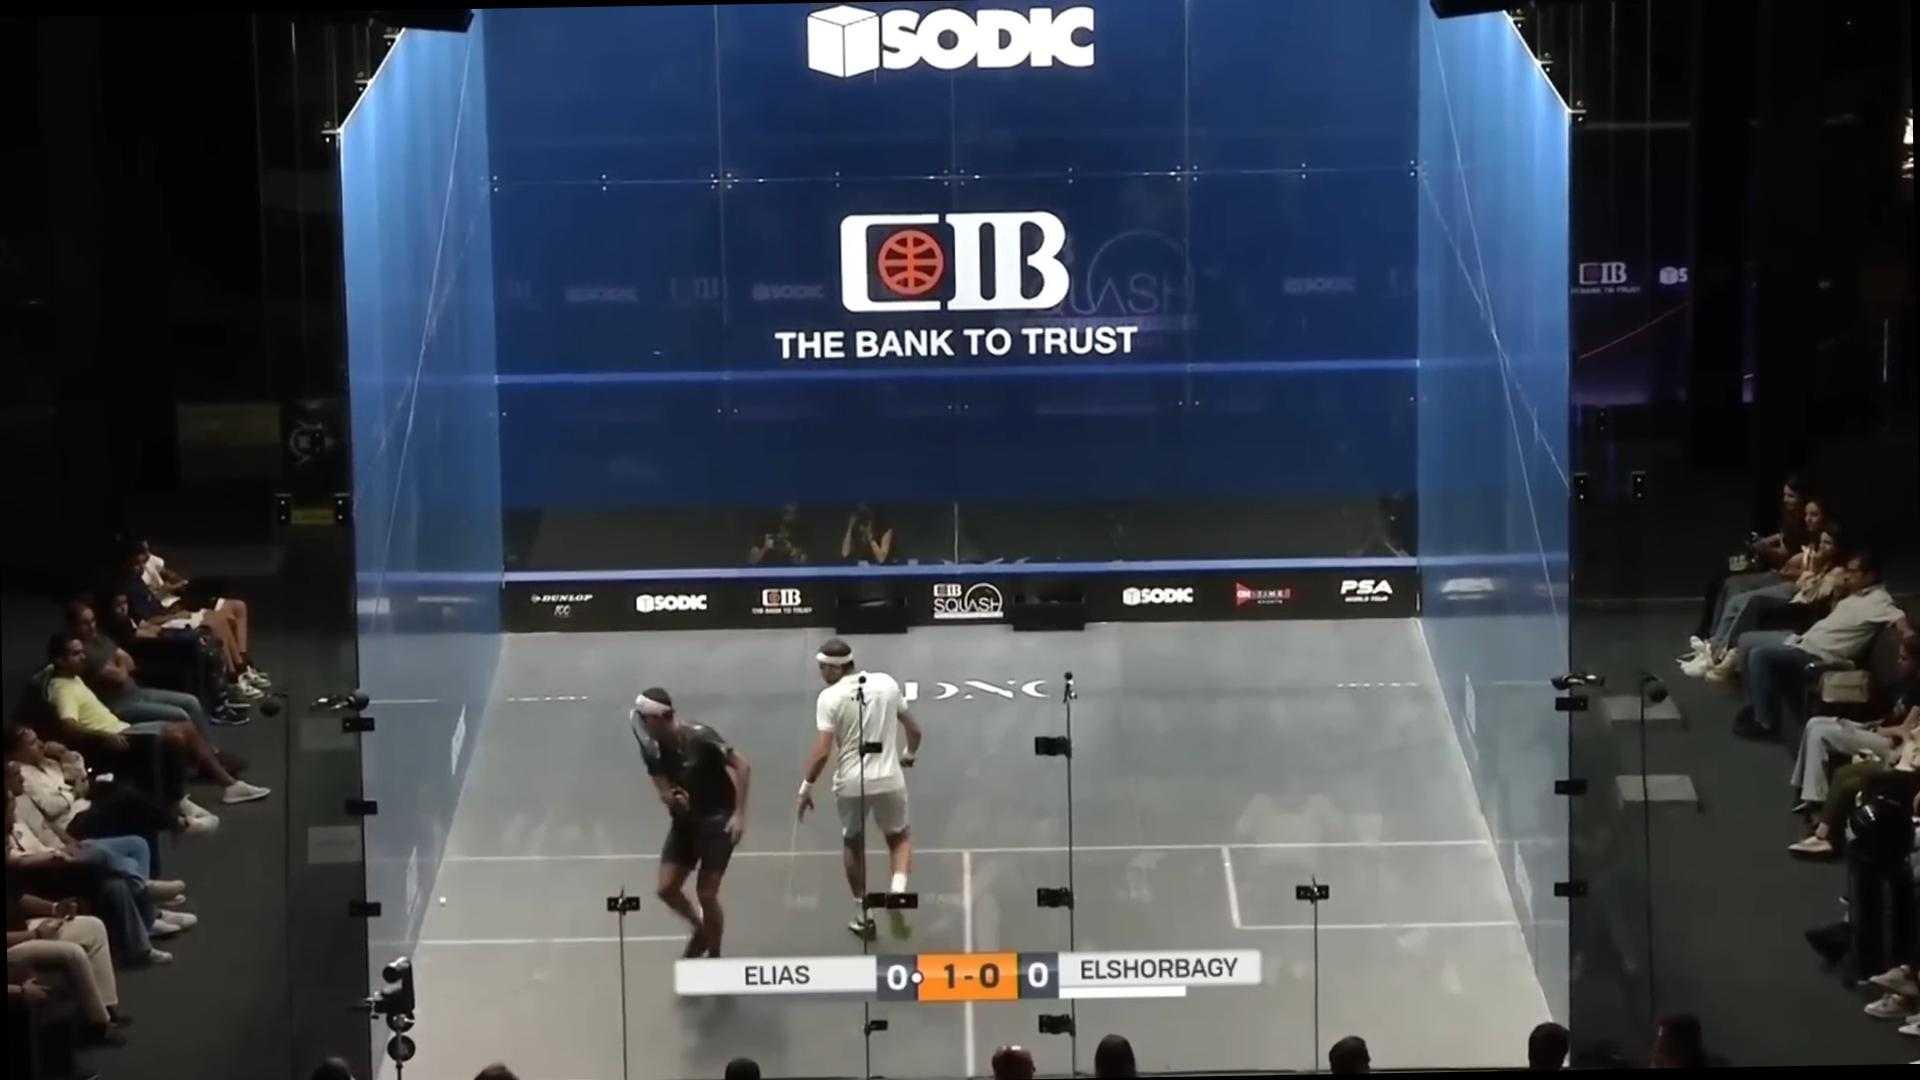Squash-Ball: (434, 889, 454, 910)
